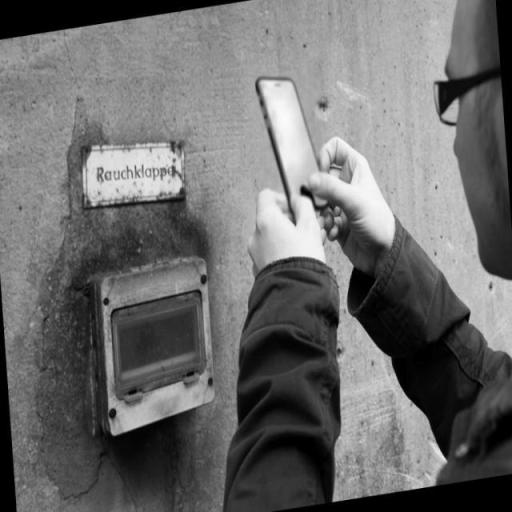phone: (252, 71, 339, 220)
